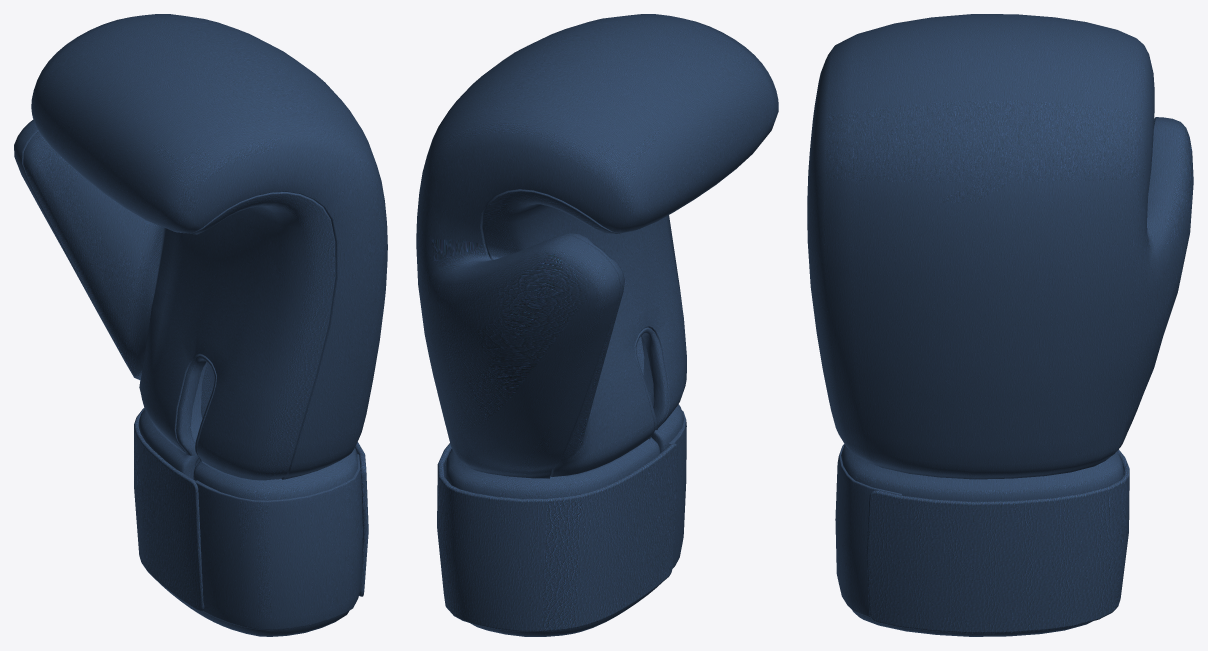
The model's file is rękawice bokserskie062.fbx.
3 views of the same model, side by side, from view 1: azimuth 30°, elevation 25°; view 2: azimuth 150°, elevation 25°; view 3: azimuth 270°, elevation 25° (orthographic). The views are drawn at different scales.
Visible parts, largest first — view 1: rękawice bokserskie062; view 2: rękawice bokserskie062; view 3: rękawice bokserskie062.
Boxes of the visible parts, bbox=[...] form: rękawice bokserskie062: bbox=[14, 14, 387, 636]; rękawice bokserskie062: bbox=[416, 14, 778, 636]; rękawice bokserskie062: bbox=[807, 14, 1193, 636].
Size of the model in its own units: 5.3 by 10.6 by 6.77.
